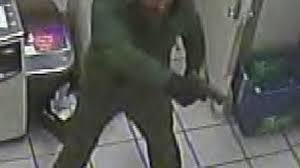weapon: (183, 72, 228, 104)
